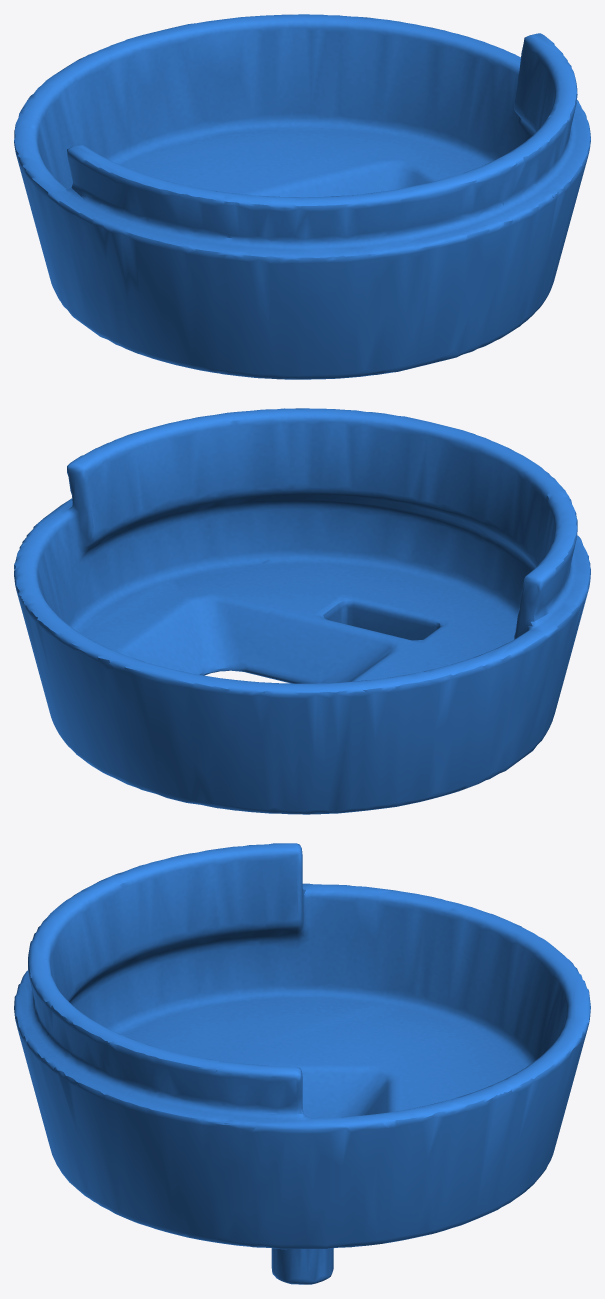
The model's file is right_wrist.glb.
The picture shows the model from 3 angles, top to bottom: view 1: azimuth 30°, elevation 25°; view 2: azimuth 150°, elevation 25°; view 3: azimuth 270°, elevation 25°; orthographic projection.
Visible parts, largest first — view 1: right_wrist; view 2: right_wrist; view 3: right_wrist.
Part boxes in pixels (x1=…): right_wrist: x1=14, y1=14, x2=590, y2=379; right_wrist: x1=14, y1=408, x2=590, y2=814; right_wrist: x1=14, y1=843, x2=590, y2=1284.
Size of the model in its own units: 0.0516 by 0.0243 by 0.0516.
1 material, 1 textured.
